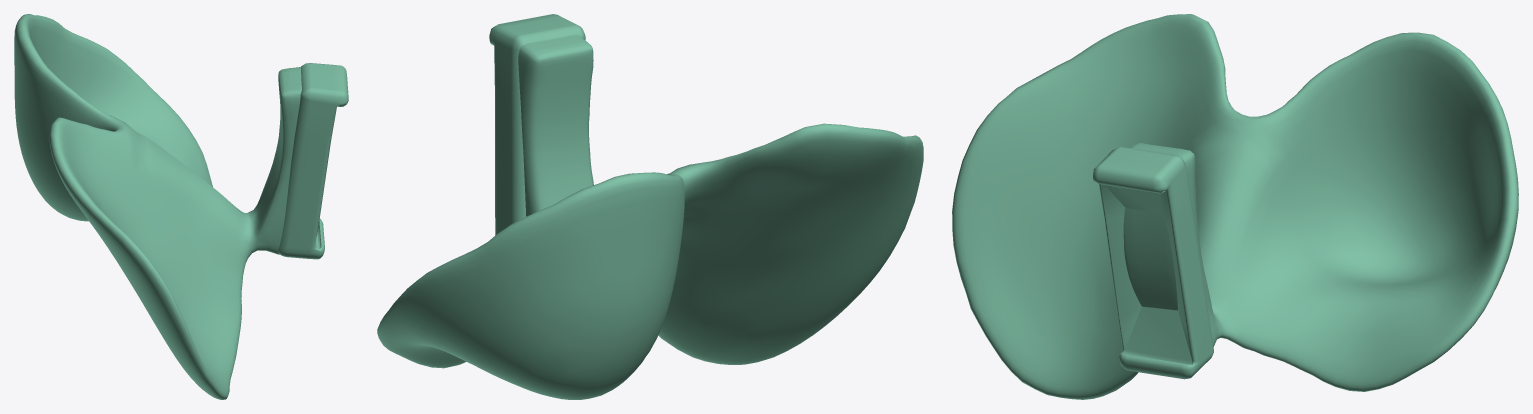
The model's file is TR4_Spacers_BaguetteMetal.001.glb.
The picture shows the model from 3 angles, left to right: view 1: azimuth 30°, elevation 25°; view 2: azimuth 150°, elevation 25°; view 3: azimuth 270°, elevation 25°; orthographic projection. The views are drawn at different scales.
Parts seen in each view (by area): view 1: TR4_Spacers_BaguetteMetal.001; view 2: TR4_Spacers_BaguetteMetal.001; view 3: TR4_Spacers_BaguetteMetal.001.
Boxes of the visible parts, <box> form: TR4_Spacers_BaguetteMetal.001: <box>14,14,348,399</box>; TR4_Spacers_BaguetteMetal.001: <box>377,14,923,399</box>; TR4_Spacers_BaguetteMetal.001: <box>952,14,1518,399</box>.
Size of the model in its own units: 0.9096 by 0.7875 by 1.22.
